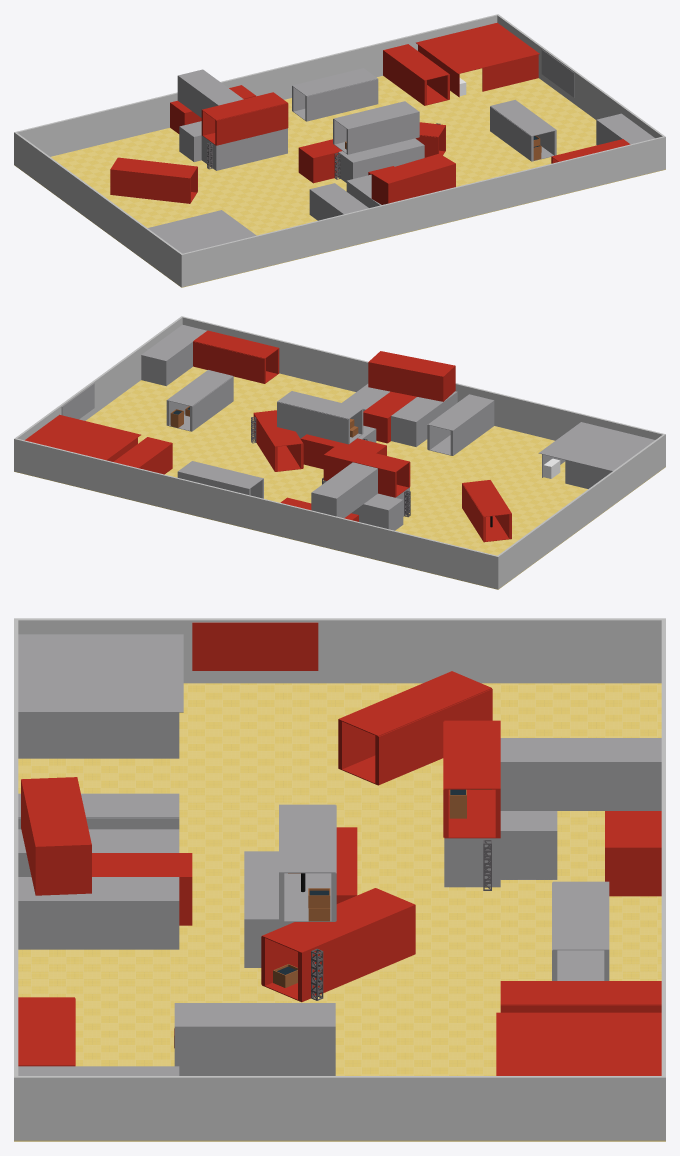
Rendered from map.gltf.
3 renders of one model, top to bottom at view 1: azimuth 30°, elevation 25°; view 2: azimuth 150°, elevation 25°; view 3: azimuth 270°, elevation 25°, orthographic. The views are drawn at different scales.
Parts seen in each view (by area): view 1: Height (×33), floor; view 2: Height (×36), floor; view 3: Height (×38), floor, Texture1.
Boxes of the visible parts, x1,y1,x2,y2 form: Height (×33): (14, 14, 665, 287); floor: (14, 68, 665, 287); Height (×36): (14, 316, 665, 589); floor: (14, 366, 665, 589); Height (×38): (14, 618, 665, 1140); floor: (14, 683, 665, 1141); Texture1: (22, 684, 657, 1075).
Bounding box in the file's own units: 250 × 25.6 × 150.
